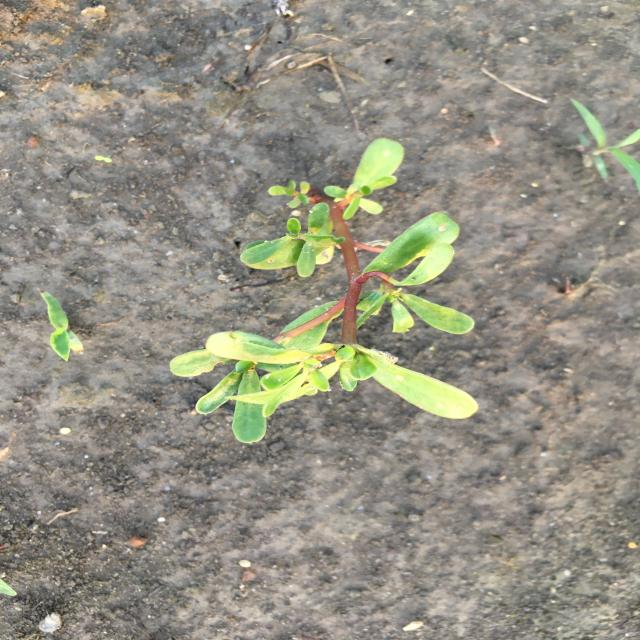Purslane: (166, 136, 482, 446)
